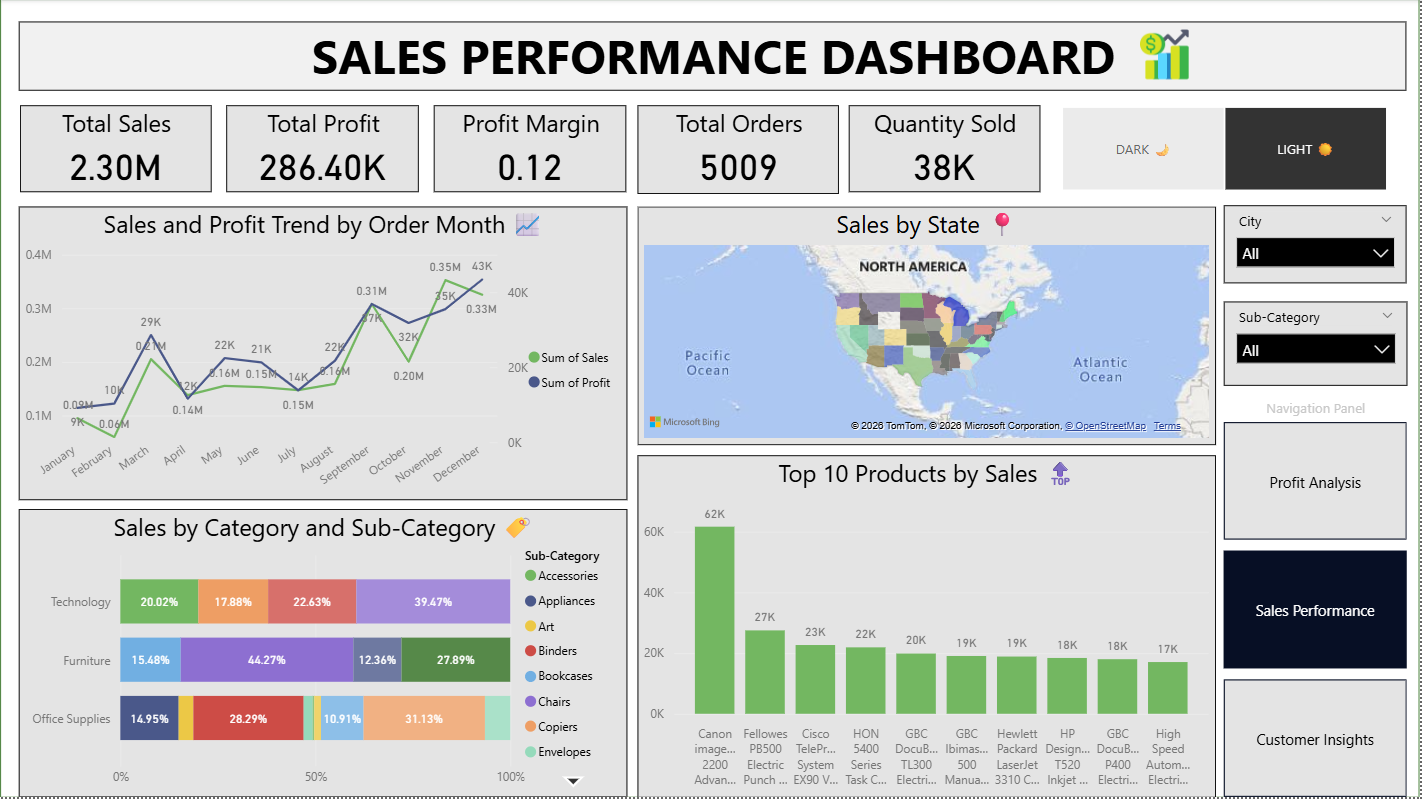

Layout of this report page (visuals, bound fields, positions):
{"tool":"powerbi","page":{"name":"Sales Performance ","canvas":[1280,720],"ordinal":1},"visuals":[{"type":"shape","box":[0,0,1280,720.3],"z":0},{"type":"card","title":"Total Sales","fields":{"Values":["Sum(SalesData.Sales)"]},"box":[17.5,96.2,172.5,78.8],"z":1000},{"type":"card","title":"Total Profit","fields":{"Values":["Sum(SalesData.Profit)"]},"box":[203.8,96.2,173.8,78.8],"z":2000},{"type":"card","title":"Profit Margin","fields":{"Values":["SalesData.Profit Margin"]},"box":[391.2,96.2,173.8,78.8],"z":3000},{"type":"card","title":"Total Orders","fields":{"Values":["Count(SalesData.Order ID)"]},"box":[574.7,95.8,181.6,79.6],"z":4000},{"type":"card","title":"Quantity Sold","fields":{"Values":["Sum(SalesData.Quantity)"]},"box":[765,96.2,172.5,78.8],"z":5000},{"type":"lineChart","title":"Sales and Profit Trend by Order Month 📈","fields":{"Category":["SalesData.Order Date.Variation.Date Hierarchy.Month"],"Y":["Sum(SalesData.Sales)"],"Y2":["Sum(SalesData.Profit)"]},"box":[17.4,186.6,548.6,265],"z":6000},{"type":"hundredPercentStackedBarChart","title":"Sales by Category and Sub-Category 🏷️","fields":{"Category":["SalesData.Category"],"Y":["Sum(SalesData.Sales)"],"Series":["SalesData.Sub-Category"]},"box":[17.4,460.3,548.6,260],"z":7000},{"type":"filledMap","title":"Sales by State 📍","fields":{"Category":["SalesData.State"],"Series":["SalesData.Sales"]},"box":[574.7,186.6,521.2,215.2],"z":8000},{"type":"clusteredColumnChart","title":"Top 10 Products by Sales 🔝","fields":{"Category":["SalesData.Product Name"],"Y":["Sum(SalesData.Sales)"]},"box":[574.7,411.8,521.2,308.5],"z":9000},{"type":"slicer","fields":{"Values":["Theme.Theme"]},"box":[937.9,95.8,330.9,78.4],"z":10000},{"type":"textbox","title":"SALES PERFORMANCE DASHBOARD","box":[17.4,19.9,1251.4,62.2],"z":11000},{"type":"pageNavigator","title":"Navigation Panel","box":[1103.2,360.2,166,360.2],"z":12000},{"type":"image","box":[1016.2,19.2,66.6,62.1],"z":13000},{"type":"slicer","fields":{"Values":["SalesData.City"]},"box":[1103.2,186.3,164.9,70],"z":14000},{"type":"slicer","fields":{"Values":["SalesData.Sub-Category"]},"box":[1103.2,273.3,166,75.7],"z":15000}]}

Visuals, with their boxes in screenshot pixels (x1, y1, x2, y2), scaled from the page's 1280x720 canvas onto the 1422x801 screenshot:
shape: box=[0, 0, 1421, 800]
"Total Sales" card: box=[19, 107, 211, 195]
"Total Profit" card: box=[226, 107, 419, 195]
"Profit Margin" card: box=[435, 107, 628, 195]
"Total Orders" card: box=[638, 107, 840, 195]
"Quantity Sold" card: box=[850, 107, 1042, 195]
"Sales and Profit Trend by Order Month 📈" lineChart: box=[19, 208, 629, 502]
"Sales by Category and Sub-Category 🏷️" hundredPercentStackedBarChart: box=[19, 512, 629, 800]
"Sales by State 📍" filledMap: box=[638, 208, 1217, 447]
"Top 10 Products by Sales 🔝" clusteredColumnChart: box=[638, 458, 1217, 800]
slicer - Theme.Theme: box=[1042, 107, 1410, 194]
"SALES PERFORMANCE DASHBOARD" textbox: box=[19, 22, 1410, 91]
"Navigation Panel" pageNavigator: box=[1226, 401, 1410, 800]
image: box=[1129, 21, 1203, 90]
slicer - SalesData.City: box=[1226, 207, 1409, 285]
slicer - SalesData.Sub-Category: box=[1226, 304, 1410, 388]
